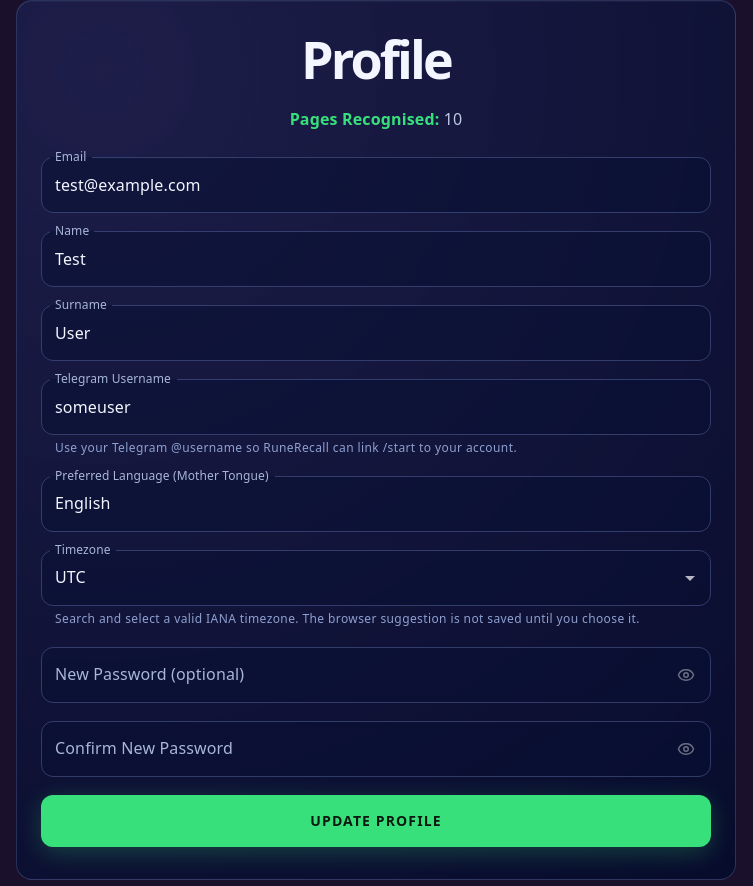
Test case: Profile › shows error when updating to duplicate Telegram username
Replace the text in the field labelled "Telegram Username" with "@TakenUser": coordinates (376, 407) [41, 379, 711, 435]
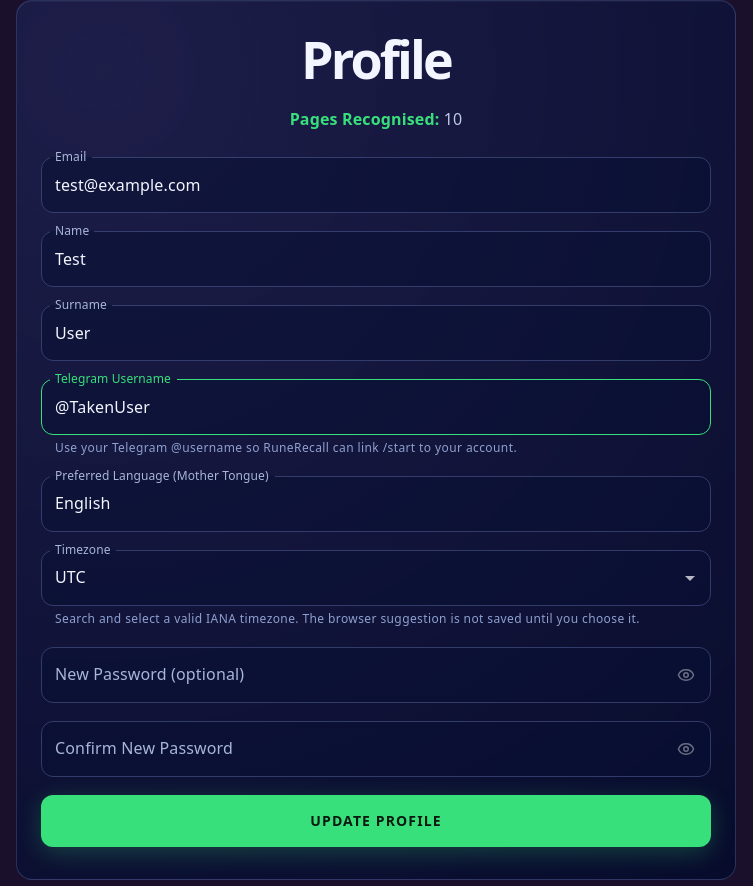
Click the button "Update Profile": coordinates (376, 821) [41, 795, 711, 847]
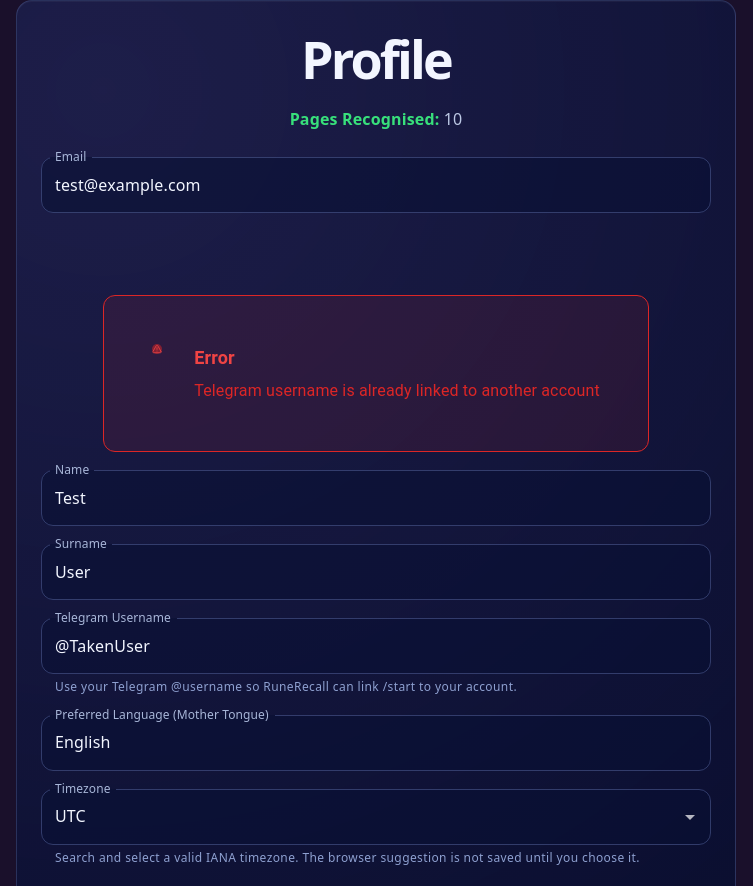
Expected: the text "Telegram username is already linked to another account" is shown, [194, 379, 600, 403]
